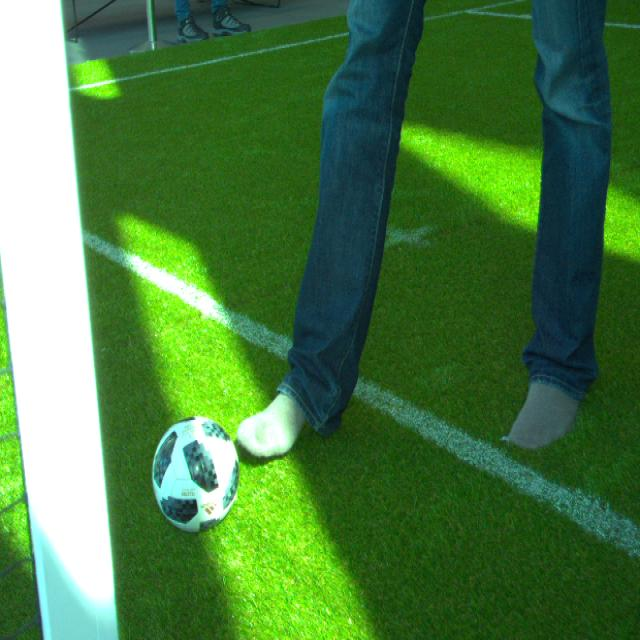ball: (152, 416, 240, 535)
goalpost: (0, 0, 119, 639)
